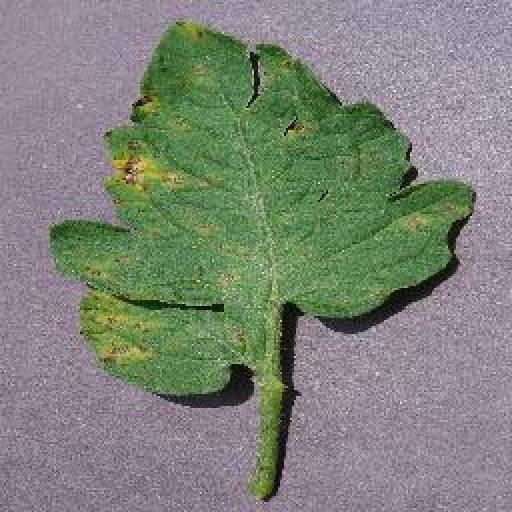Septoria: (47, 19, 477, 400)
